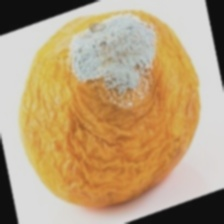orange: (65, 47, 201, 213)
